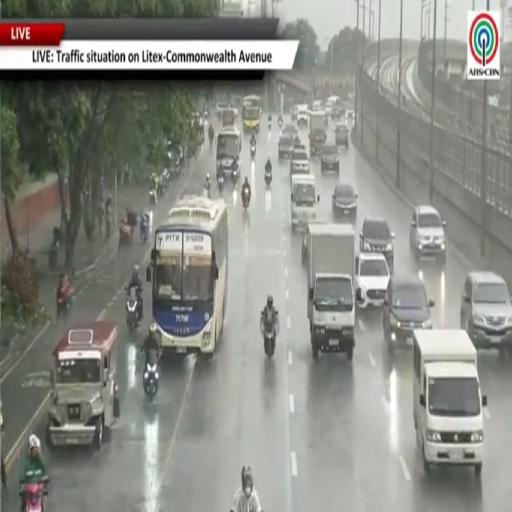bus: (146, 196, 228, 355), (216, 126, 241, 178), (243, 95, 261, 132)
car: (460, 271, 511, 354), (383, 275, 434, 350), (410, 205, 446, 262), (355, 253, 390, 308), (360, 217, 394, 273), (333, 183, 357, 221), (291, 146, 309, 182), (321, 143, 339, 172), (334, 123, 349, 148), (279, 134, 293, 158), (216, 102, 230, 120), (297, 104, 308, 125), (282, 123, 298, 137), (310, 99, 324, 112), (325, 101, 333, 116), (294, 135, 303, 148), (346, 110, 355, 122), (291, 105, 297, 120)
jeepney: (47, 320, 119, 449)
motorcycle: (143, 349, 159, 402), (21, 479, 47, 511), (261, 312, 278, 359), (126, 286, 139, 331), (48, 227, 61, 271), (57, 281, 73, 316), (119, 221, 133, 247), (48, 239, 58, 271), (140, 213, 149, 244), (242, 188, 250, 210), (106, 207, 111, 239), (149, 188, 157, 205), (232, 168, 240, 184), (265, 170, 272, 186), (218, 175, 224, 193), (203, 186, 211, 199), (209, 131, 214, 146), (251, 143, 255, 158), (278, 118, 282, 129), (268, 121, 271, 131)
truck: (414, 329, 486, 475), (307, 222, 355, 361), (309, 111, 326, 154)
